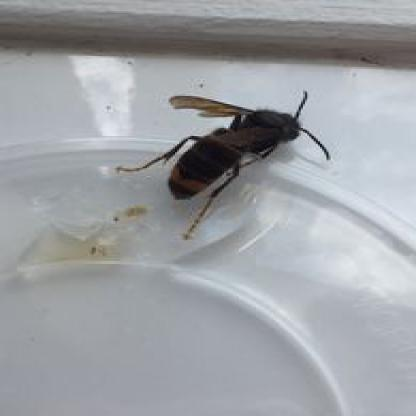Asian Hornet: (122, 86, 336, 243)
